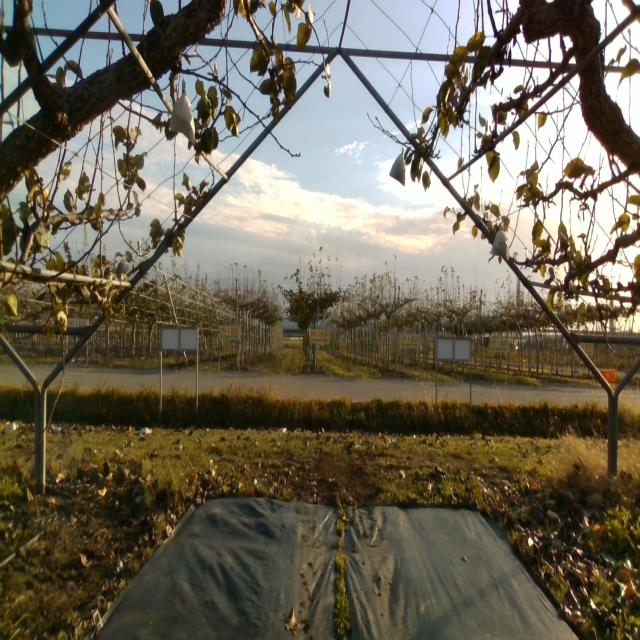pearbags: (167, 78, 196, 144), (488, 224, 509, 260), (389, 148, 406, 186)
